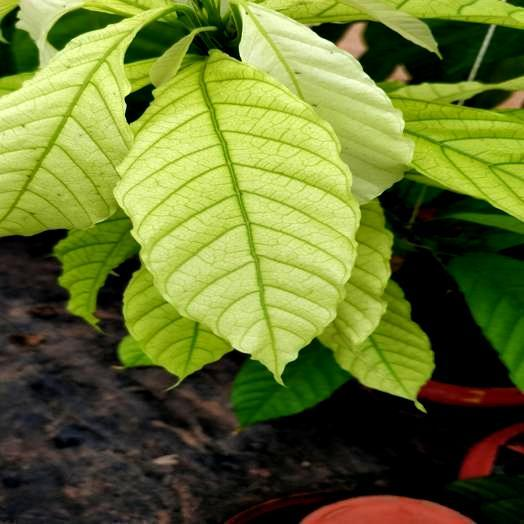Iron: (116, 51, 359, 379), (0, 9, 166, 235)
